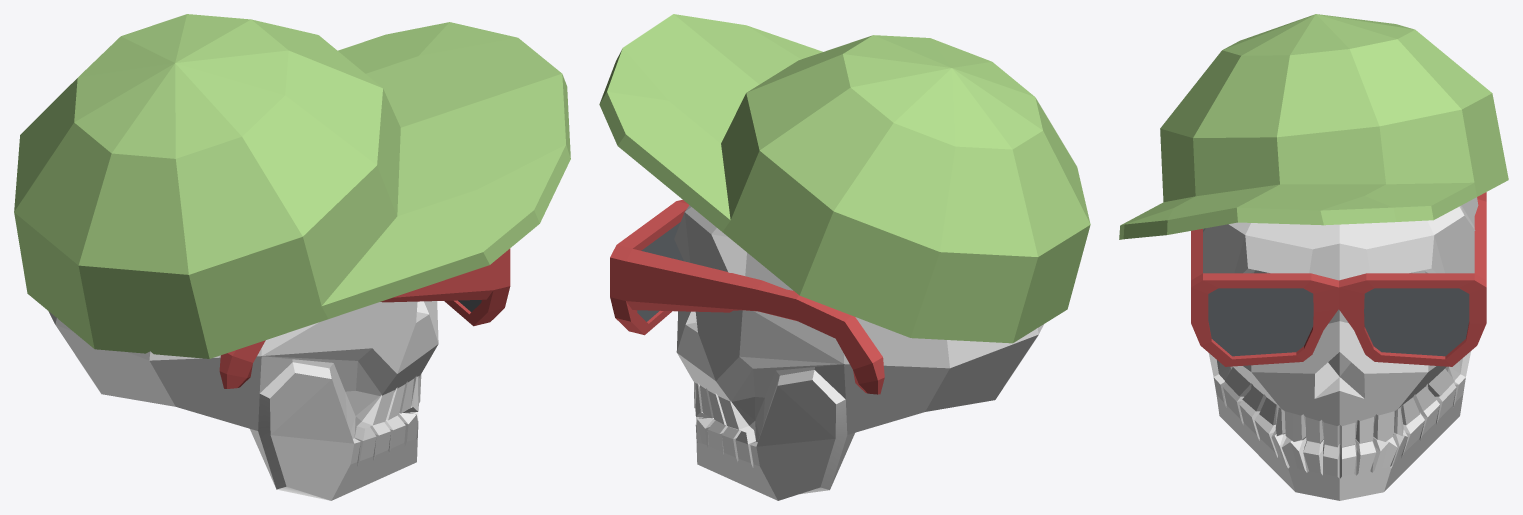
The model's file is Fuckboi.fbx.
3 renders of one model, left to right at view 1: azimuth 30°, elevation 25°; view 2: azimuth 150°, elevation 25°; view 3: azimuth 270°, elevation 25°, orthographic. The views are drawn at different scales.
Parts seen in each view (by area): view 1: pSphere1, pSphere2, pCube11; view 2: pSphere1, pSphere2, pCube11, polySurface2; view 3: pSphere1, pSphere2, pCube11, polySurface1, polySurface2.
Part boxes in pixels (x1=…): pSphere1: x1=14, y1=14, x2=570, y2=358; pSphere2: x1=48, y1=301, x2=438, y2=500; pCube11: x1=219, y1=248, x2=510, y2=388; pSphere1: x1=599, y1=14, x2=1090, y2=343; pSphere2: x1=674, y1=205, x2=1043, y2=500; pCube11: x1=610, y1=199, x2=884, y2=394; polySurface2: x1=637, y1=222, x2=683, y2=321; pSphere1: x1=1119, y1=14, x2=1508, y2=239; pSphere2: x1=1203, y1=197, x2=1478, y2=500; pCube11: x1=1191, y1=192, x2=1486, y2=366; polySurface1: x1=1208, y1=288, x2=1313, y2=356; polySurface2: x1=1364, y1=288, x2=1469, y2=356.
Size of the model in its own units: 5.61 by 5.08 by 4.64.
